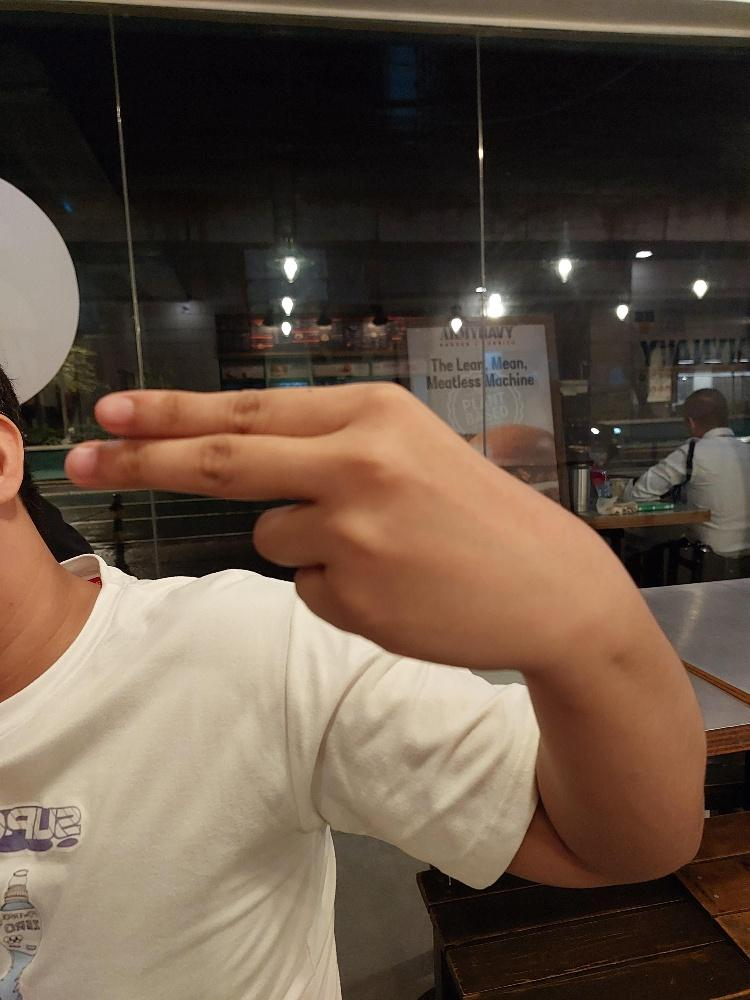h: (61, 378, 600, 670)
